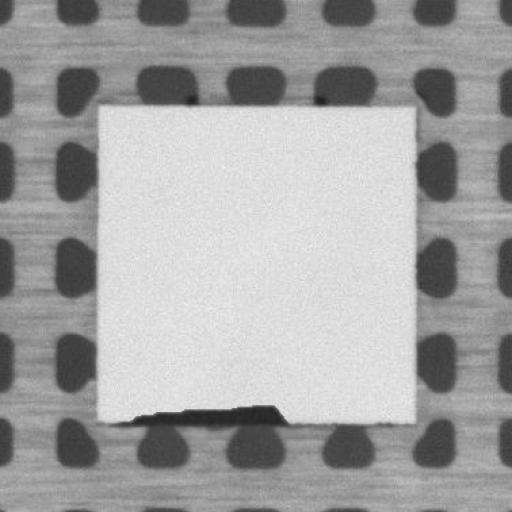DIE_BROKEN: (120, 401, 292, 427)
